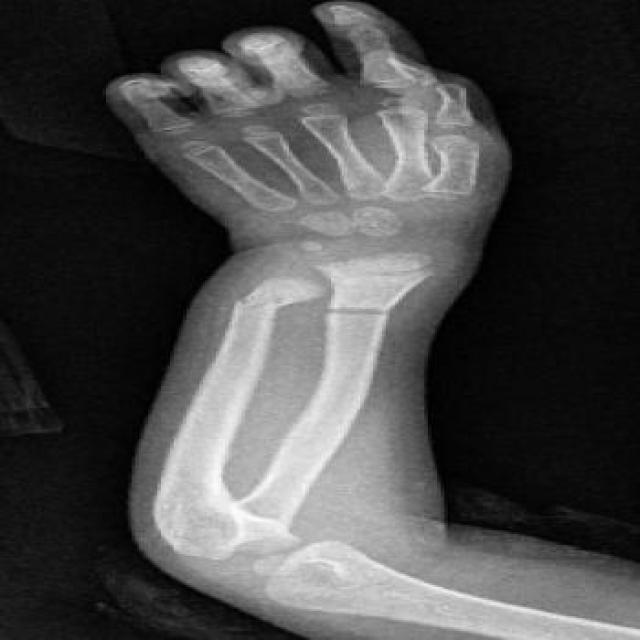Fracture: (316, 296, 410, 320), (228, 289, 292, 318)
